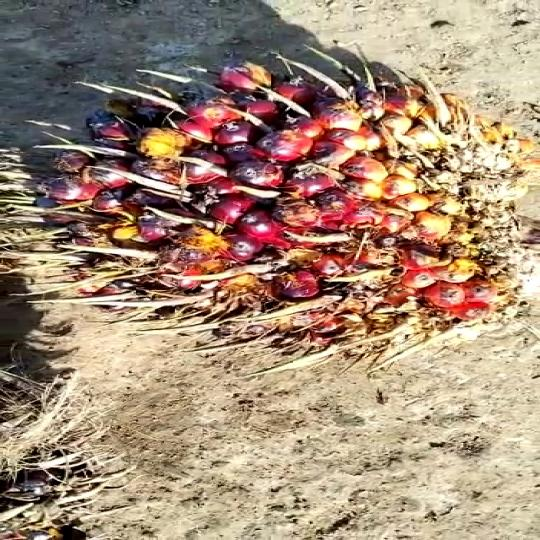masak: (0, 44, 540, 365)
